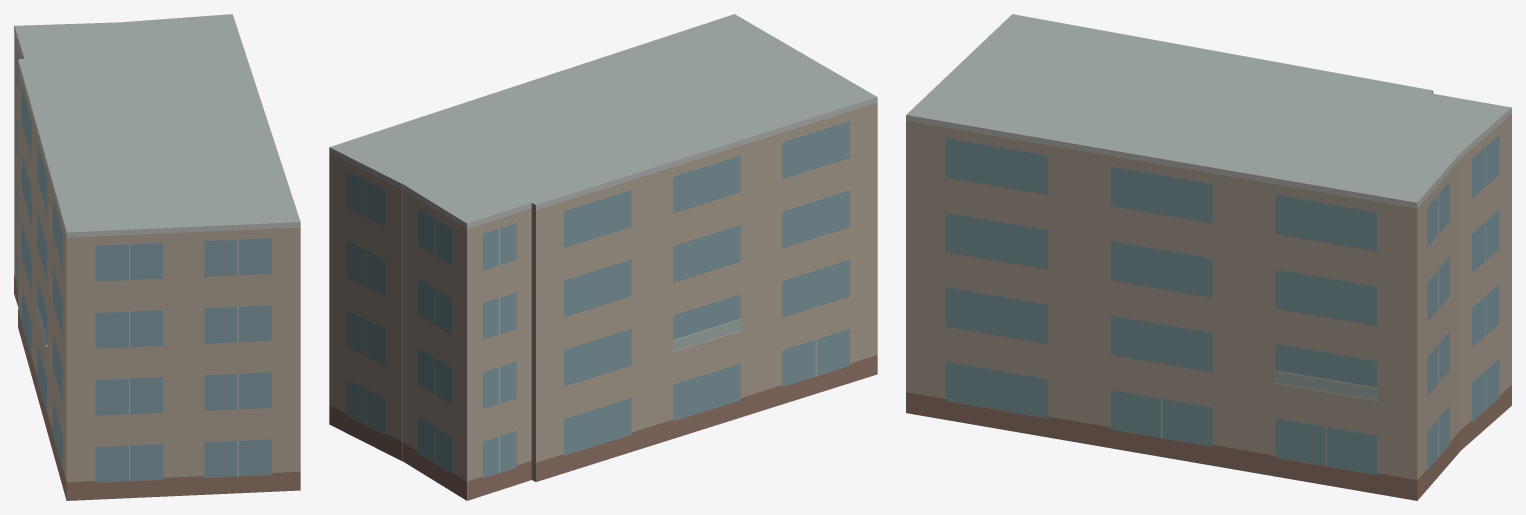
File: survey-upis-32525282.glb
The picture shows the model from 3 angles, left to right: view 1: azimuth 30°, elevation 25°; view 2: azimuth 150°, elevation 25°; view 3: azimuth 270°, elevation 25°; orthographic projection. The views are drawn at different scales.
Visible parts, largest first — view 1: survey-upis-32525282.tmp; view 2: survey-upis-32525282.tmp; view 3: survey-upis-32525282.tmp.
Boxes of the visible parts, x1=… form: survey-upis-32525282.tmp: x1=14, y1=14, x2=300, y2=500; survey-upis-32525282.tmp: x1=329, y1=14, x2=877, y2=500; survey-upis-32525282.tmp: x1=906, y1=14, x2=1511, y2=500.
Size of the model in its own units: 16.58 by 12.2 by 22.48.
